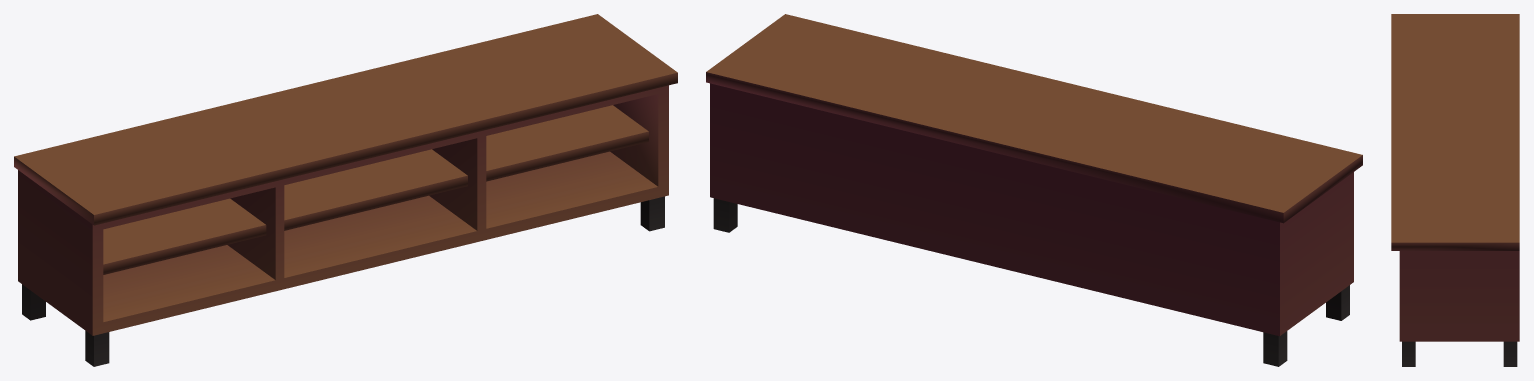
File: TSP_TV_Stand_02B.fbx
3 renders of one model, left to right at view 1: azimuth 30°, elevation 25°; view 2: azimuth 150°, elevation 25°; view 3: azimuth 270°, elevation 25°, orthographic. The views are drawn at different scales.
Visible parts, largest first — view 1: TSP_TV_Stand_02B; view 2: TSP_TV_Stand_02B; view 3: TSP_TV_Stand_02B.
Part boxes in pixels (box(x1,y1,x2,y2)): TSP_TV_Stand_02B: box(14, 14, 677, 366); TSP_TV_Stand_02B: box(706, 14, 1362, 366); TSP_TV_Stand_02B: box(1391, 14, 1519, 366).
Bounding box in the file's own units: 2.32 × 0.6 × 0.5503.
